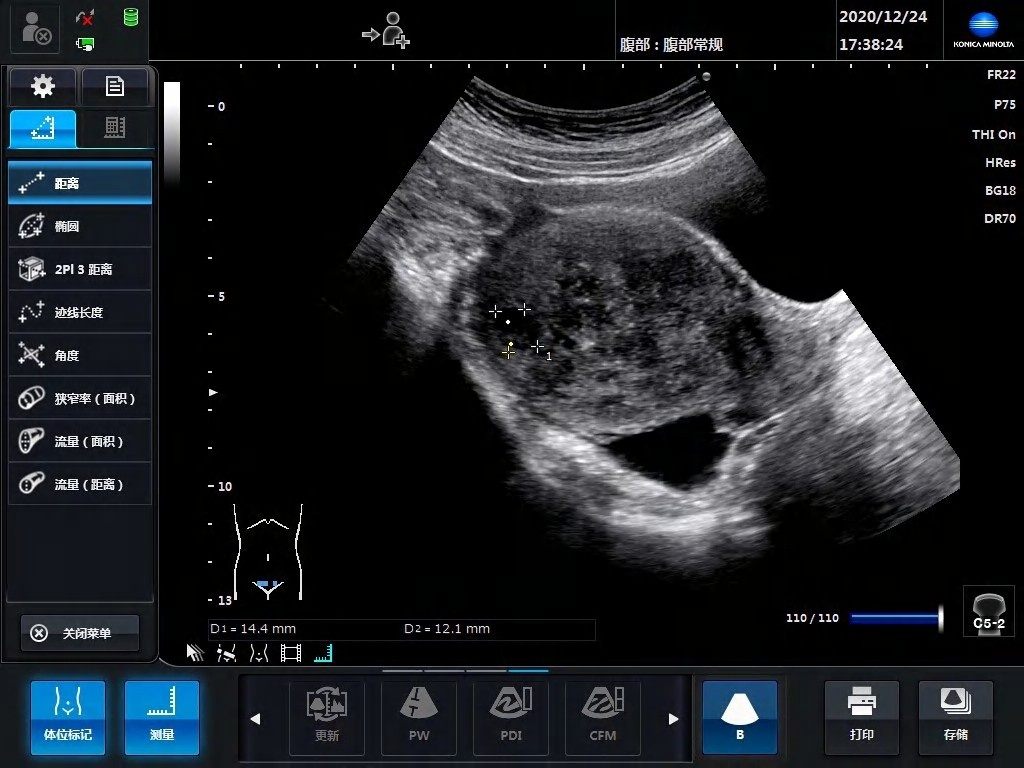肌瘤: (497, 314, 542, 348)
